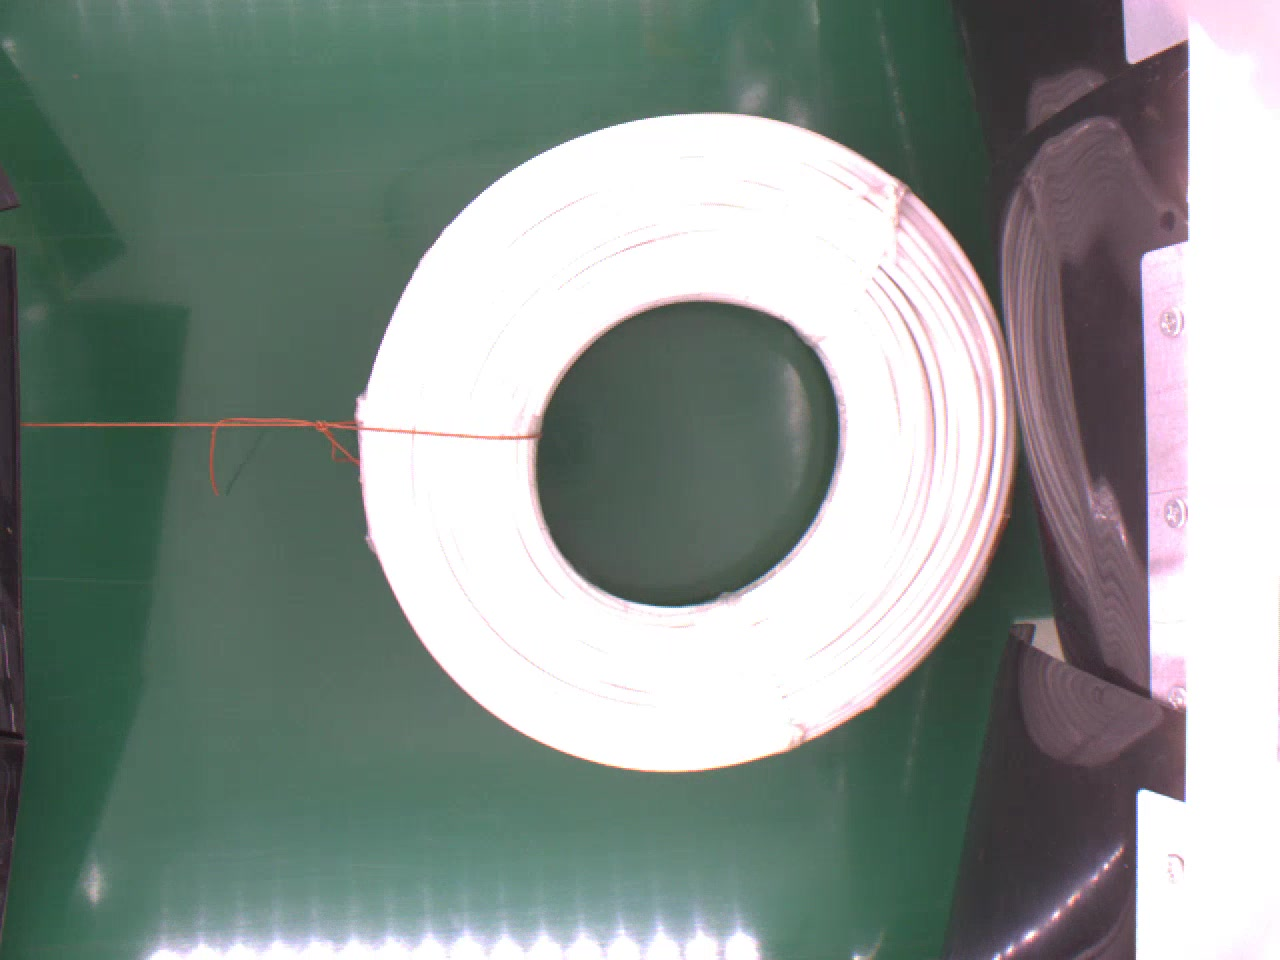white: (355, 108, 1020, 773)
